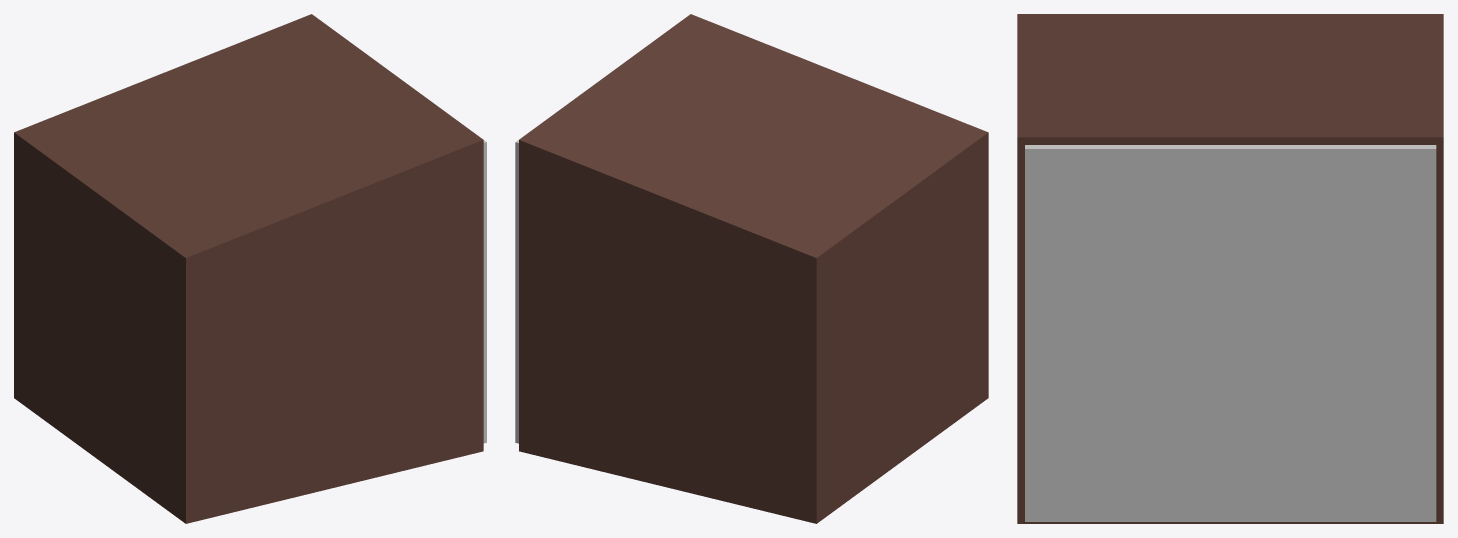
File: clock.fbx
3 views of the same model, side by side, from view 1: azimuth 30°, elevation 25°; view 2: azimuth 150°, elevation 25°; view 3: azimuth 270°, elevation 25° (orthographic). The views are drawn at different scales.
Parts seen in each view (by area): view 1: Cube.001, Cube; view 2: Cube.001, Cube; view 3: Cube, Cube.001.
Boxes of the visible parts, box(x1,y1,x2,y2) form: Cube.001: box(14, 14, 483, 523); Cube: box(483, 140, 486, 443); Cube.001: box(519, 14, 988, 523); Cube: box(515, 140, 518, 443); Cube: box(1025, 145, 1436, 521); Cube.001: box(1017, 14, 1443, 523).
Size of the model in its own units: 204 by 200 by 200.
